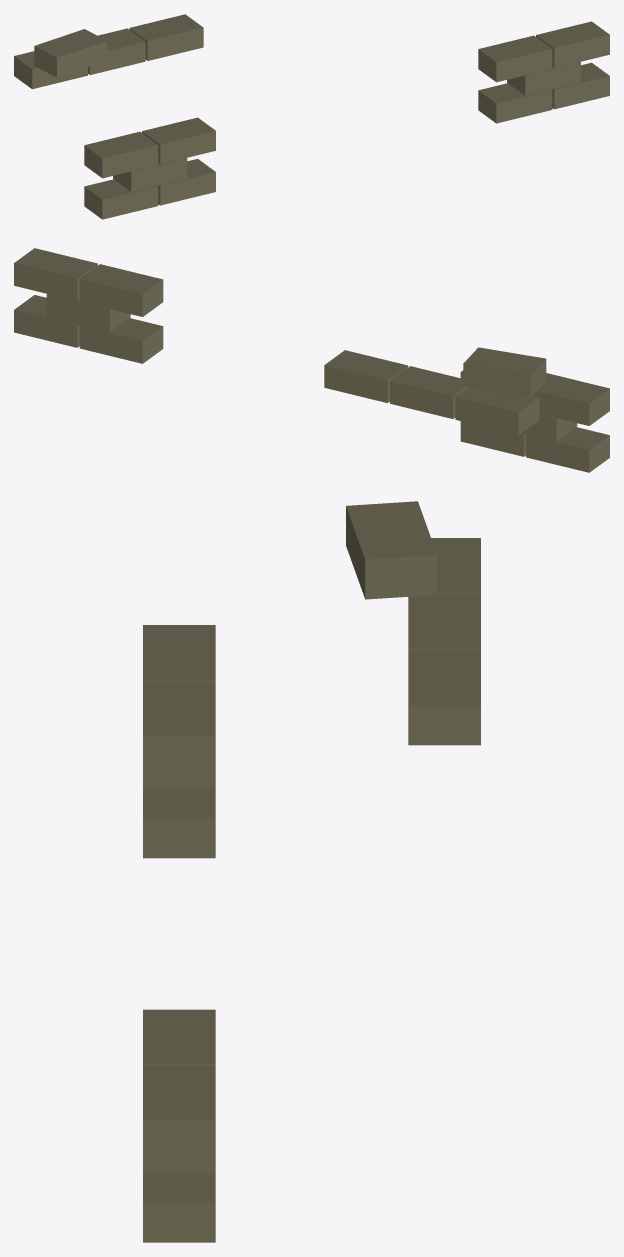
Rendered from SM_ObraSacos_v4_8m_LOD0.fbx.
The picture shows the model from 3 angles, top to bottom: view 1: azimuth 30°, elevation 25°; view 2: azimuth 150°, elevation 25°; view 3: azimuth 270°, elevation 25°; orthographic projection. The views are drawn at different scales.
Parts seen in each view (by area): view 1: SM_obra_curso_v8_LOD0; view 2: SM_obra_curso_v8_LOD0; view 3: SM_obra_curso_v8_LOD0.
Part boxes in pixels (x1,y1,x2,y2): SM_obra_curso_v8_LOD0: (14,14,609,219); SM_obra_curso_v8_LOD0: (14,248,609,472); SM_obra_curso_v8_LOD0: (143,501,480,1242).
Size of the model in its own units: 7.79 by 1.79 by 2.23.
